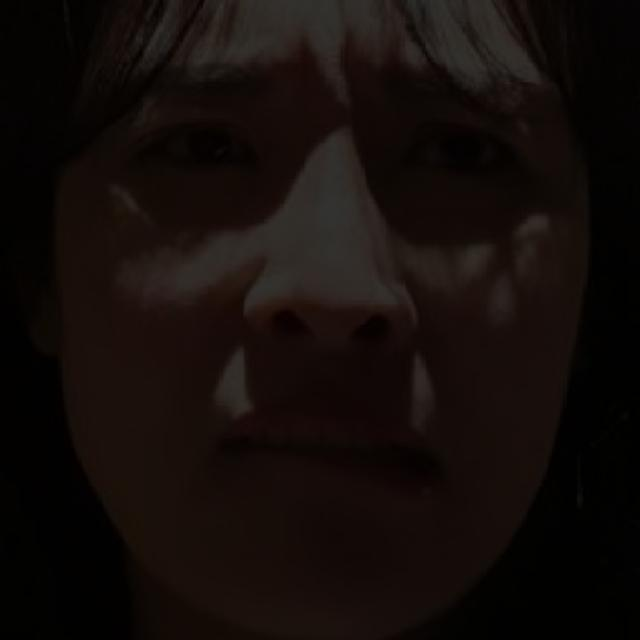Disgust: (80, 23, 640, 608)
